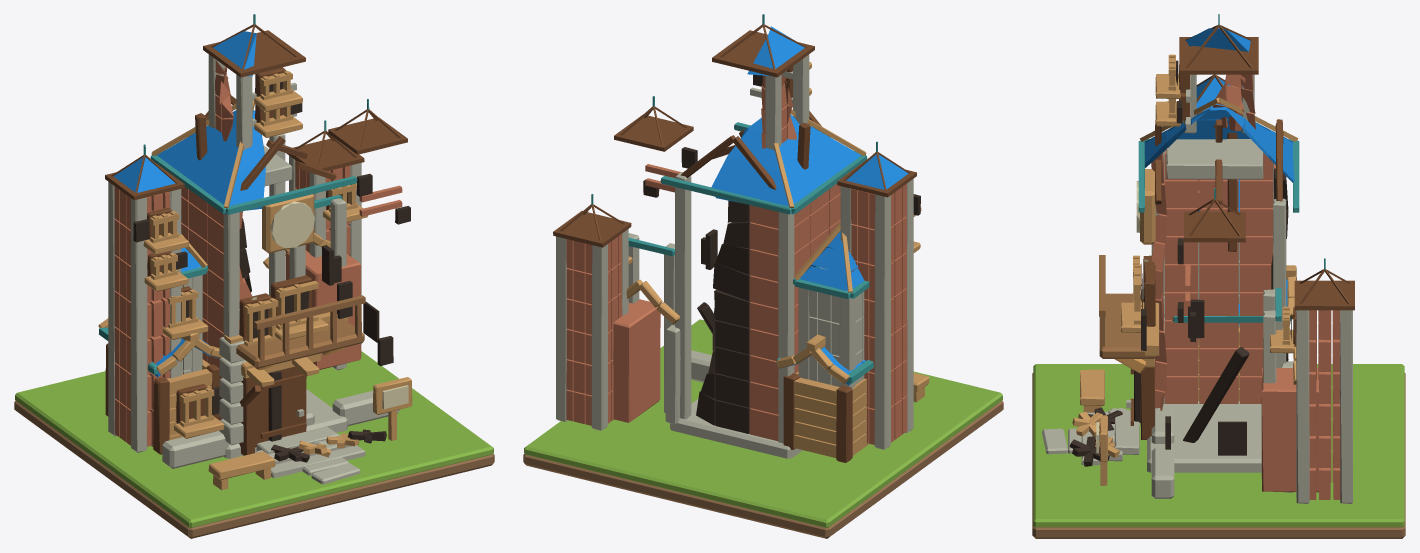
The model's file is town_hall_l13_damaged_LOD1.glb.
3 renders of one model, left to right at view 1: azimuth 30°, elevation 25°; view 2: azimuth 150°, elevation 25°; view 3: azimuth 270°, elevation 25°, orthographic. The views are drawn at different scales.
Parts seen in each view (by area): view 1: town_hall_l13_damaged_foundation.001, town_hall_l13_damaged_grass_tile.001, town_hall_l13_damaged_earth_tile.001, town_hall_l13_damaged_path_stone.005; view 2: town_hall_l13_damaged_foundation.001, town_hall_l13_damaged_grass_tile.001, town_hall_l13_damaged_earth_tile.001; view 3: town_hall_l13_damaged_foundation.001, town_hall_l13_damaged_grass_tile.001, town_hall_l13_damaged_earth_tile.001, town_hall_l13_damaged_path_stone.005.
Boxes of the visible parts, bbox=[...] form: town_hall_l13_damaged_foundation.001: bbox=[98, 14, 412, 490]; town_hall_l13_damaged_grass_tile.001: bbox=[15, 351, 493, 527]; town_hall_l13_damaged_earth_tile.001: bbox=[14, 400, 494, 538]; town_hall_l13_damaged_path_stone.005: bbox=[311, 463, 360, 484]; town_hall_l13_damaged_foundation.001: bbox=[553, 14, 929, 462]; town_hall_l13_damaged_grass_tile.001: bbox=[524, 319, 1002, 527]; town_hall_l13_damaged_earth_tile.001: bbox=[523, 400, 1003, 538]; town_hall_l13_damaged_foundation.001: bbox=[1069, 14, 1354, 503]; town_hall_l13_damaged_grass_tile.001: bbox=[1033, 364, 1404, 527]; town_hall_l13_damaged_earth_tile.001: bbox=[1032, 373, 1405, 538]; town_hall_l13_damaged_path_stone.005: bbox=[1042, 428, 1067, 454].
Size of the model in its own units: 3.6 by 4.76 by 3.6.
